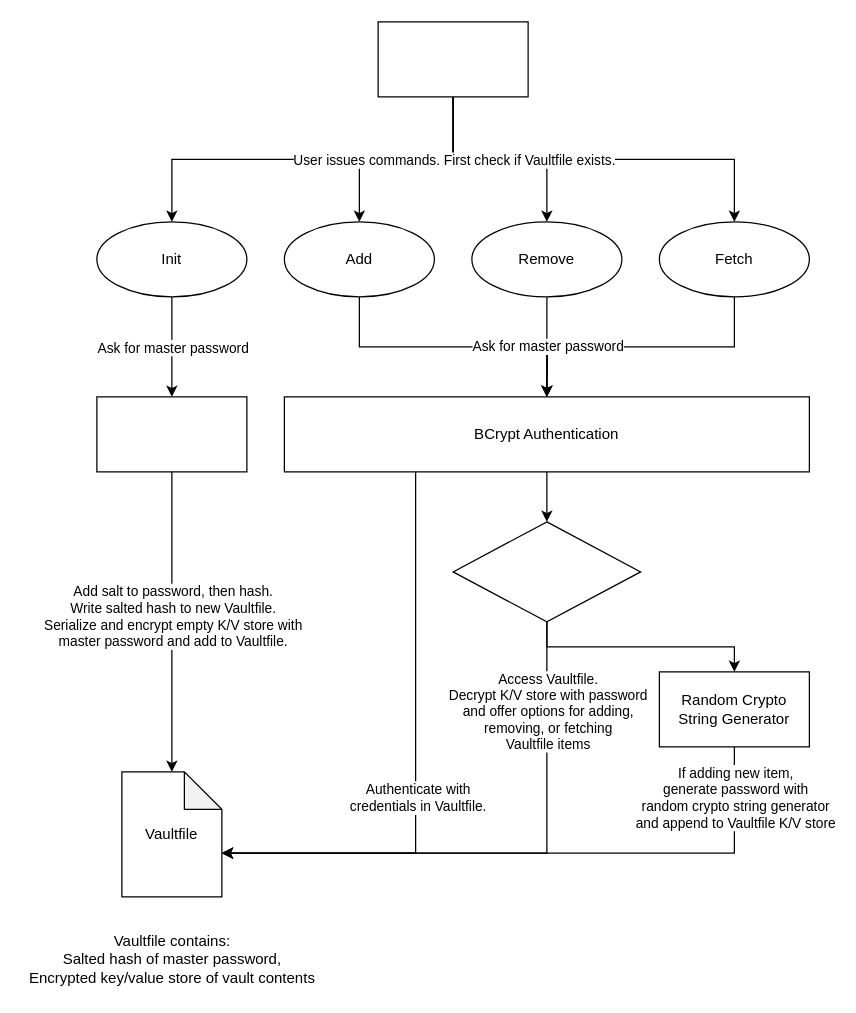
Some shapes in this 856 by 1013 pixel diagram are drawn without their labels. The shapes that lost their labels are listed below. From the top down, each one's centre as x and y in pixels, then its label:
At point (452, 59): "Command Parser".
At point (171, 434): "BCrypt".
At point (546, 571): "Authentication success?".
